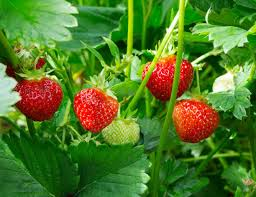ripe: (142, 42, 198, 109), (163, 88, 220, 146), (11, 70, 66, 125), (70, 77, 120, 136)
unripe: (98, 113, 144, 155)
